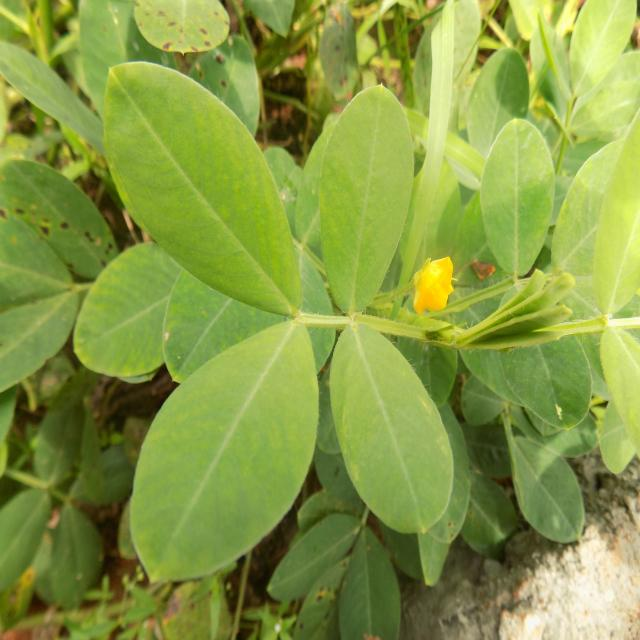Ground nut_healthy: (100, 60, 306, 318), (132, 325, 319, 583), (332, 328, 456, 532), (314, 84, 414, 314), (478, 114, 557, 278)
